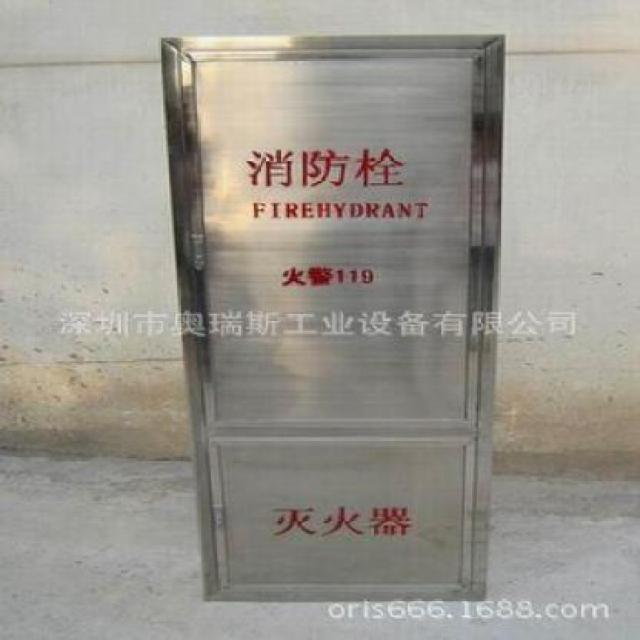firehydrant: (157, 32, 511, 608)
